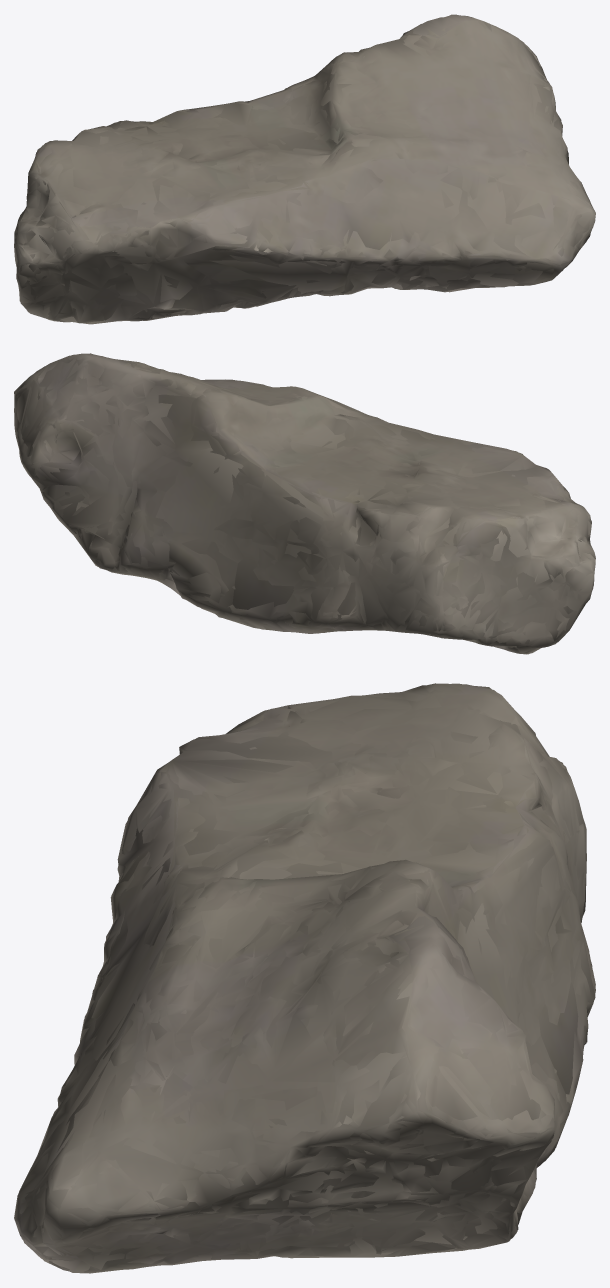
The model's file is isle-rock-3.glb.
3 renders of one model, top to bottom at view 1: azimuth 30°, elevation 25°; view 2: azimuth 150°, elevation 25°; view 3: azimuth 270°, elevation 25°, orthographic. The views are drawn at different scales.
Visible parts, largest first — view 1: moon_rock_01_LOD0; view 2: moon_rock_01_LOD0; view 3: moon_rock_01_LOD0.
Boxes of the visible parts, left/top/right/bottom form: moon_rock_01_LOD0: left=14, top=14, right=595, bottom=324; moon_rock_01_LOD0: left=14, top=353, right=595, bottom=654; moon_rock_01_LOD0: left=14, top=683, right=595, bottom=1273.
Size of the model in its own units: 0.2123 by 0.0753 by 0.1117.
Materials: 1 (1 with a texture image).
